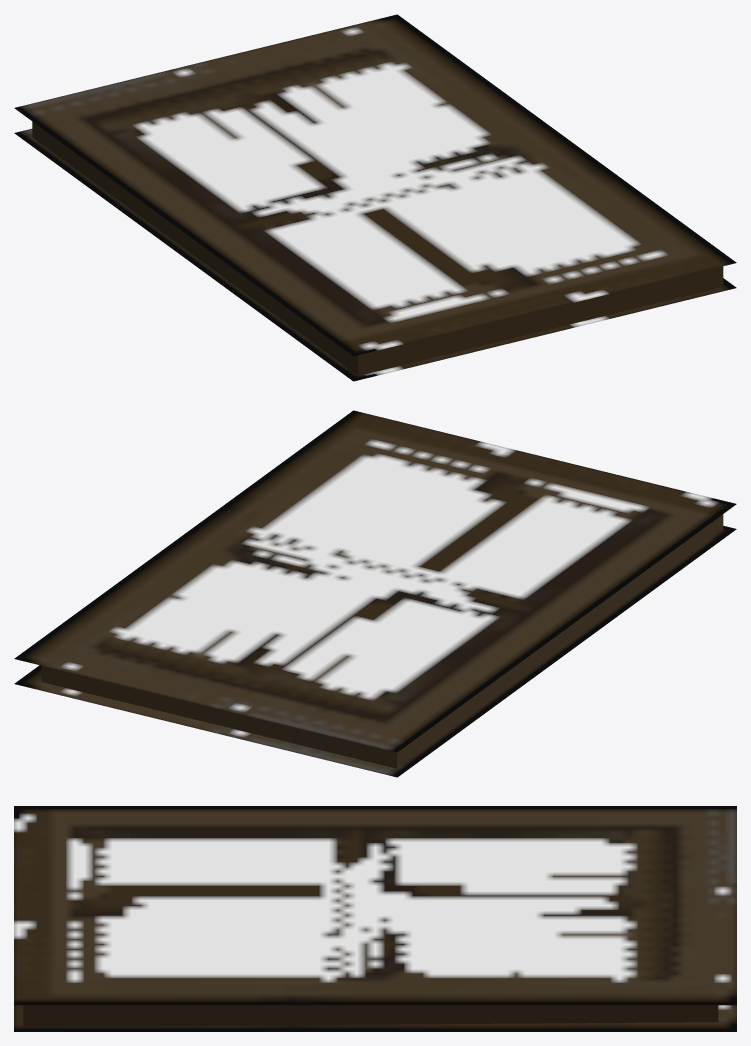
The model's file is pz_native_fixtures_windows_01_7_frame.obj.
3 views of the same model, one above another, from view 1: azimuth 30°, elevation 25°; view 2: azimuth 150°, elevation 25°; view 3: azimuth 270°, elevation 25° (orthographic). The views are drawn at different scales.
Parts seen in each view (by area): view 1: pz_native_fixtures_windows_01_7_frame; view 2: pz_native_fixtures_windows_01_7_frame; view 3: pz_native_fixtures_windows_01_7_frame.
Part boxes in pixels (x1,y1,x2,y2): pz_native_fixtures_windows_01_7_frame: (14,14,736,381); pz_native_fixtures_windows_01_7_frame: (14,410,736,777); pz_native_fixtures_windows_01_7_frame: (14,806,736,1031).
Bounding box in the file's own units: 0.6406 × 0.04 × 0.9823.
Materials: 1 (1 with a texture image).
